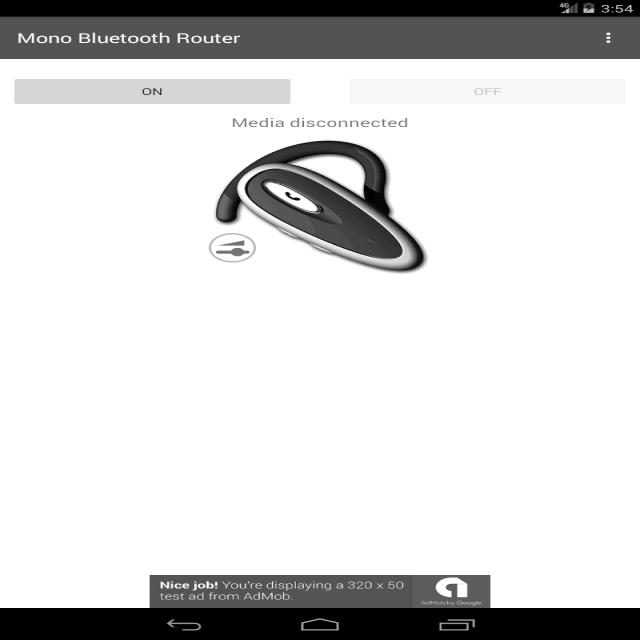Button: (11, 78, 292, 106), (348, 75, 625, 103)
ImageButton: (414, 571, 504, 607), (594, 29, 632, 45)
ImageView: (183, 143, 457, 272)
TextView: (154, 578, 412, 602), (11, 28, 246, 46), (225, 114, 438, 132)
